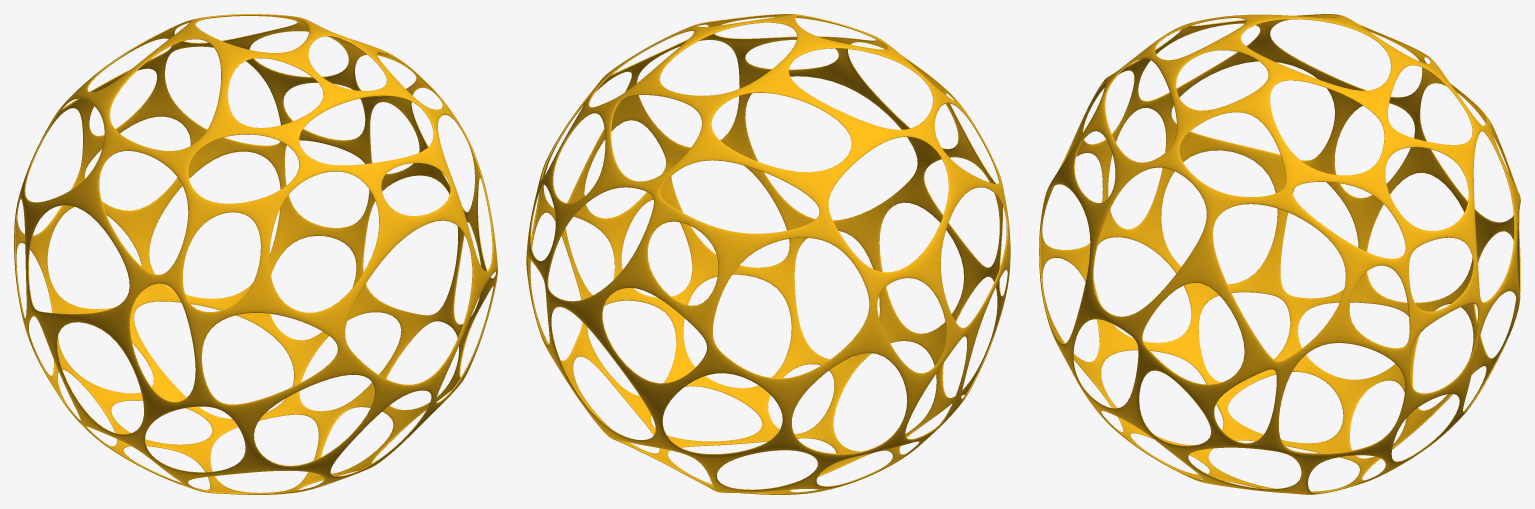
The model's file is small_island1.glb.
3 views of the same model, side by side, from view 1: azimuth 30°, elevation 25°; view 2: azimuth 150°, elevation 25°; view 3: azimuth 270°, elevation 25° (orthographic).
Parts seen in each view (by area): view 1: Cube.012; view 2: Cube.012; view 3: Cube.012.
Part boxes in pixels (left/top/right/bottom): Cube.012: left=14, top=14, right=497, bottom=494; Cube.012: left=526, top=14, right=1010, bottom=494; Cube.012: left=1039, top=14, right=1520, bottom=494.
Bounding box in the file's own units: 1.69 × 1.65 × 1.66.
